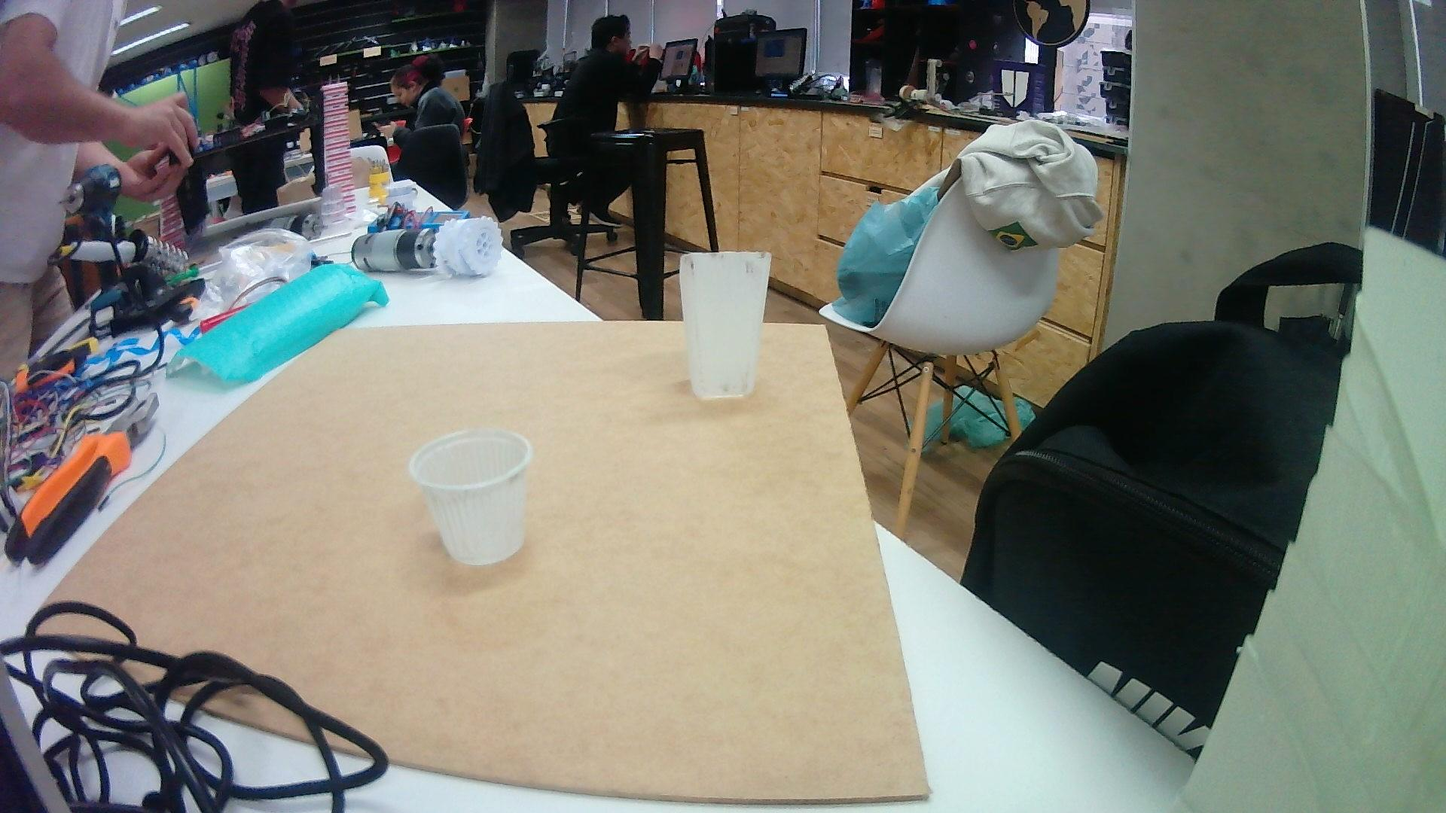erva_daninha: (679, 249, 773, 402)
planta: (407, 426, 534, 567)
